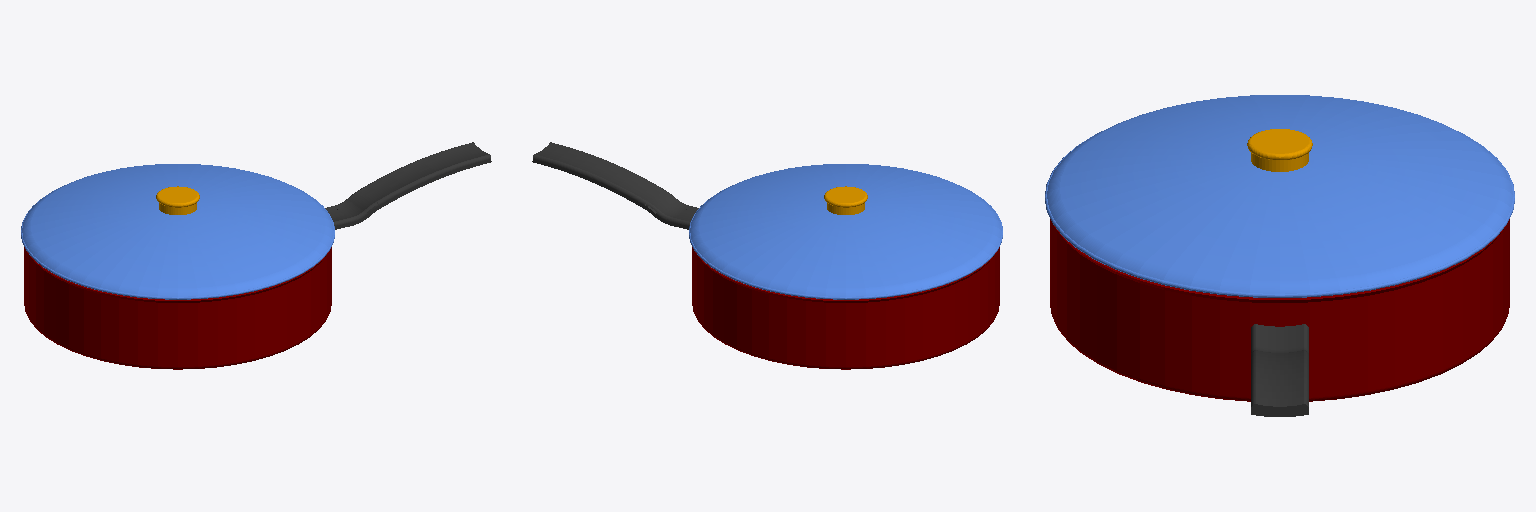
The robot description file, URDF, robot "Pan_1":
<robot name="Pan_1">
       <link name="body">
       	     <visual>
		<geometry>
			<mesh filename="package://modeltest/models/meshes/Pan_1.dae" scale="0.03 0.03 0.03" />
		</geometry>
		<origin rpy="0 0 0" xyz="0 0 0" />
	     </visual>
       	     <collision>
		<geometry>
			<mesh filename="package://modeltest/models/meshes/Pan_1.dae" scale="0.03 0.03 0.03" />
		</geometry>
		<origin rpy="0 0 0" xyz="0 0 0" />
	     </collision>
	     <inertial>
		<mass value="10" />
		<inertia ixx="1.0" ixy="0.0" ixz="0.0" iyy="1.0" iyz="0.0" izz="1.0" />
	     </inertial>
       </link>
</robot>

--- What the picture shows (computed from the rendered views, not written in the file) ---
Views: 3 orthographic renders of the robot side by side, from view 1: azimuth 30°, elevation 25°; view 2: azimuth 150°, elevation 25°; view 3: azimuth 270°, elevation 25°.
Model Pan_1 with 1 links and 0 joints (none), rooted at body, posed every joint at zero.
Links seen in each view (by area): view 1: body; view 2: body; view 3: body.
Boxes of the visible links, bbox=[...] form: body: bbox=[21, 142, 491, 369]; body: bbox=[532, 142, 1002, 369]; body: bbox=[1045, 95, 1514, 416].
Bounding box of the posed robot: 0.0149 × 0.0092 × 0.0036 m (x, y, z).
1 mesh visuals loaded from 1 distinct referenced files (1 Collada DAE).